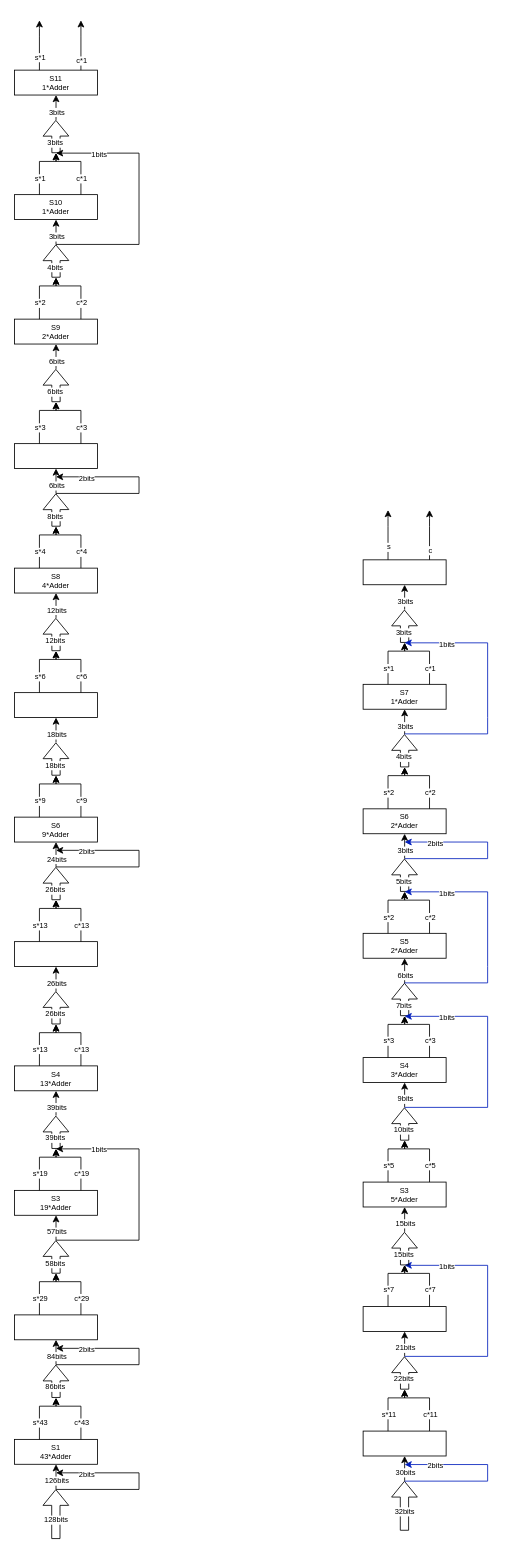
The diagram is 509 pixels wide and 1554 high, and some of its shapes have lost their labels. The shapes that lost their labels are listed below. From the top down, each one's box as (x1, y1, x2, y2) in pixels, then its label:
(14, 443, 98, 469): S9 3*Adder
(362, 559, 446, 585): S8 1*Adder
(14, 692, 98, 718): S7 6*Adder
(14, 941, 98, 967): S5 13*Adder
(14, 1314, 98, 1340): S2 29*Adder
(362, 1306, 446, 1331): S2 7*Adder
(362, 1430, 446, 1456): S1 11*Adder
